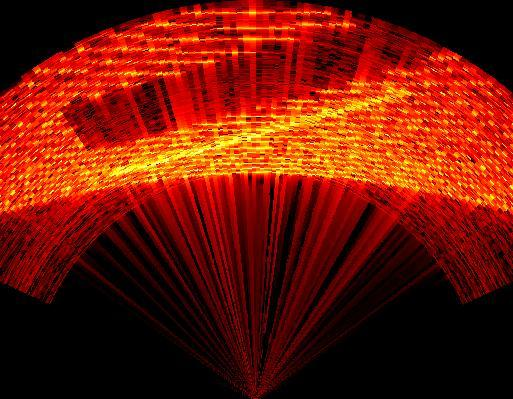pipe: (60, 20, 438, 182)
